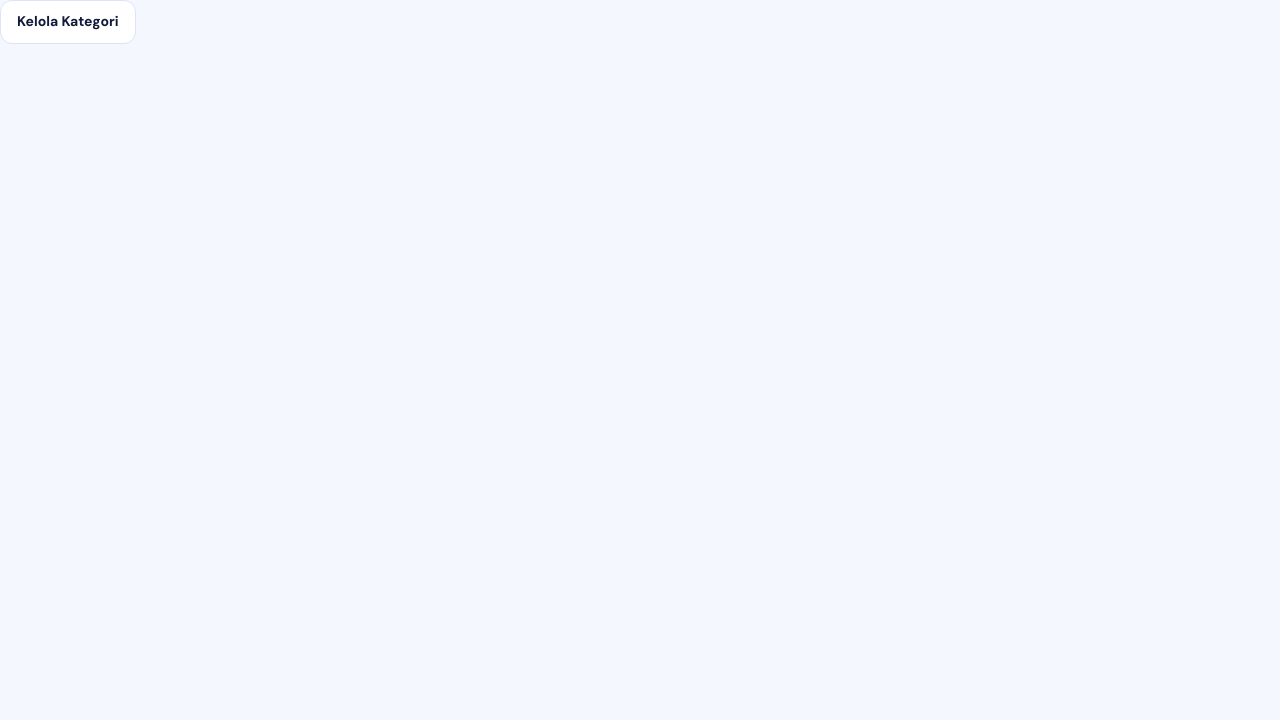
KelolaKategoriDialog › menamai formulir kategori baru sebagai Tambah Kategori
Click the button "Kelola Kategori": coordinates (68, 22) left=0, top=0, right=136, bottom=44
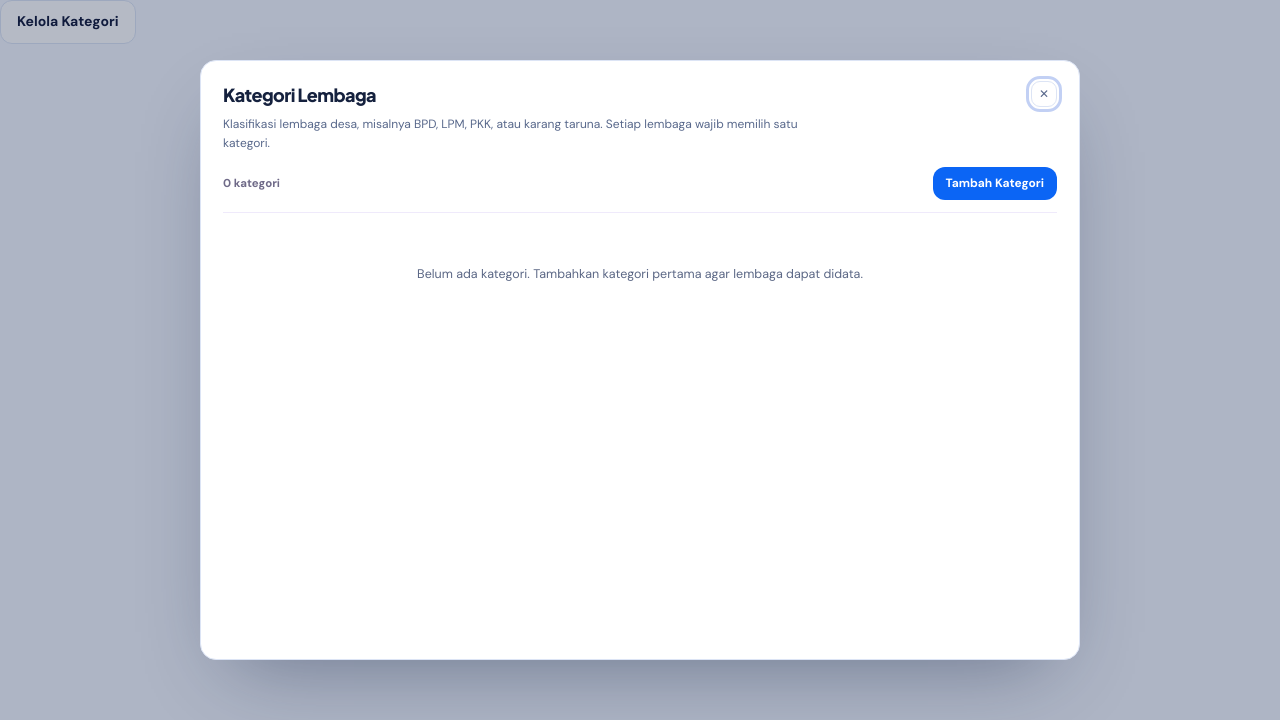
Click the button "Tambah Kategori": coordinates (995, 184) left=932, top=167, right=1057, bottom=200
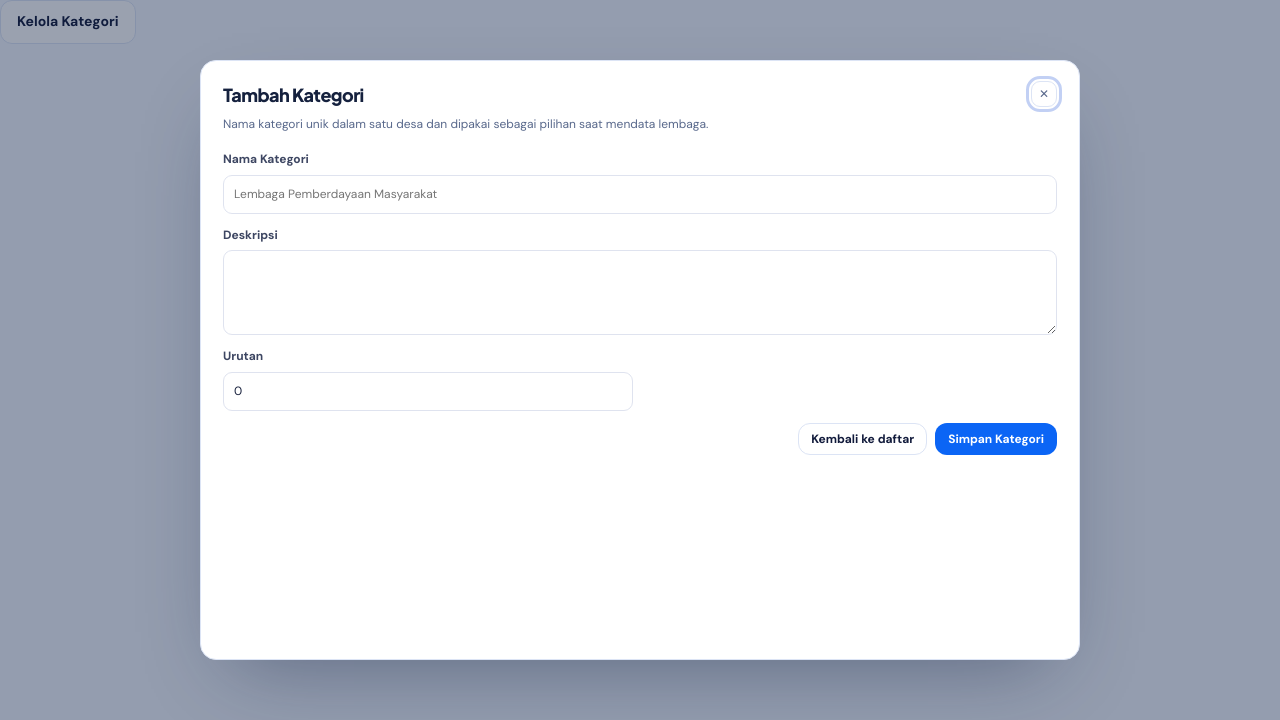
Now the heading "Tambah Kategori" is shown, box left=223, top=83, right=364, bottom=106
